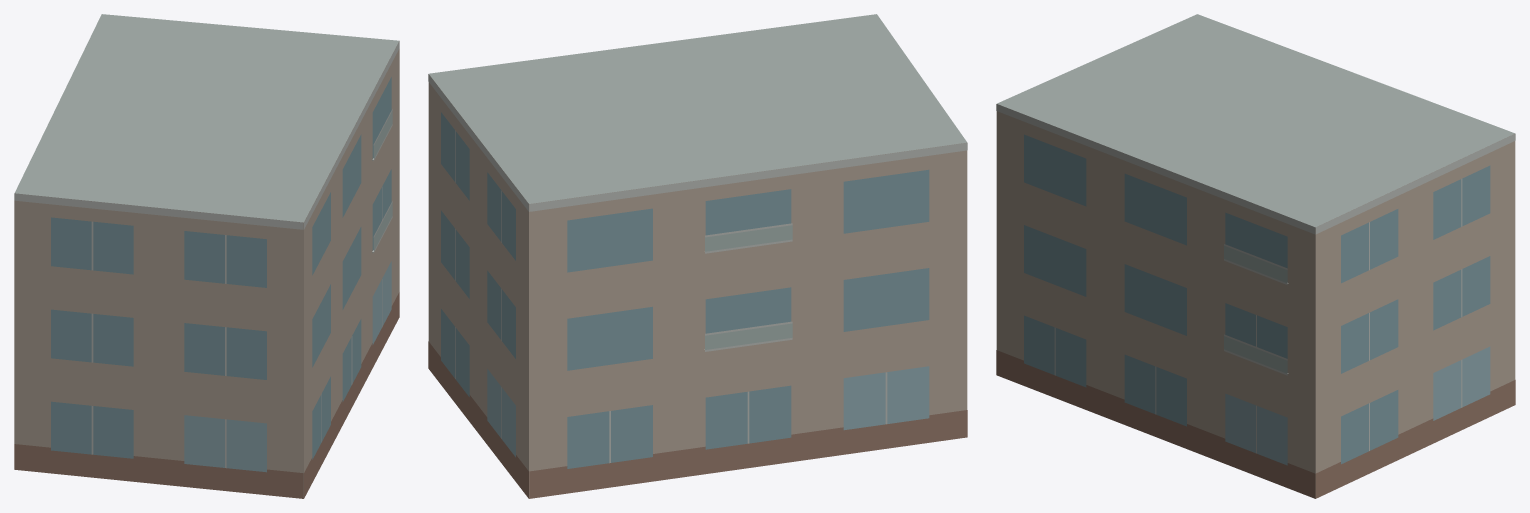
Rendered from survey-upis-32702972.glb.
3 views of the same model, side by side, from view 1: azimuth 30°, elevation 25°; view 2: azimuth 150°, elevation 25°; view 3: azimuth 270°, elevation 25° (orthographic). The views are drawn at different scales.
Parts seen in each view (by area): view 1: survey-upis-32702972.tmp; view 2: survey-upis-32702972.tmp; view 3: survey-upis-32702972.tmp.
Part boxes in pixels (x1=…): survey-upis-32702972.tmp: x1=14, y1=14, x2=399, y2=498; survey-upis-32702972.tmp: x1=428, y1=14, x2=967, y2=498; survey-upis-32702972.tmp: x1=996, y1=14, x2=1515, y2=498.
Bounding box in the file's own units: 15.43 × 9.15 × 15.86.
